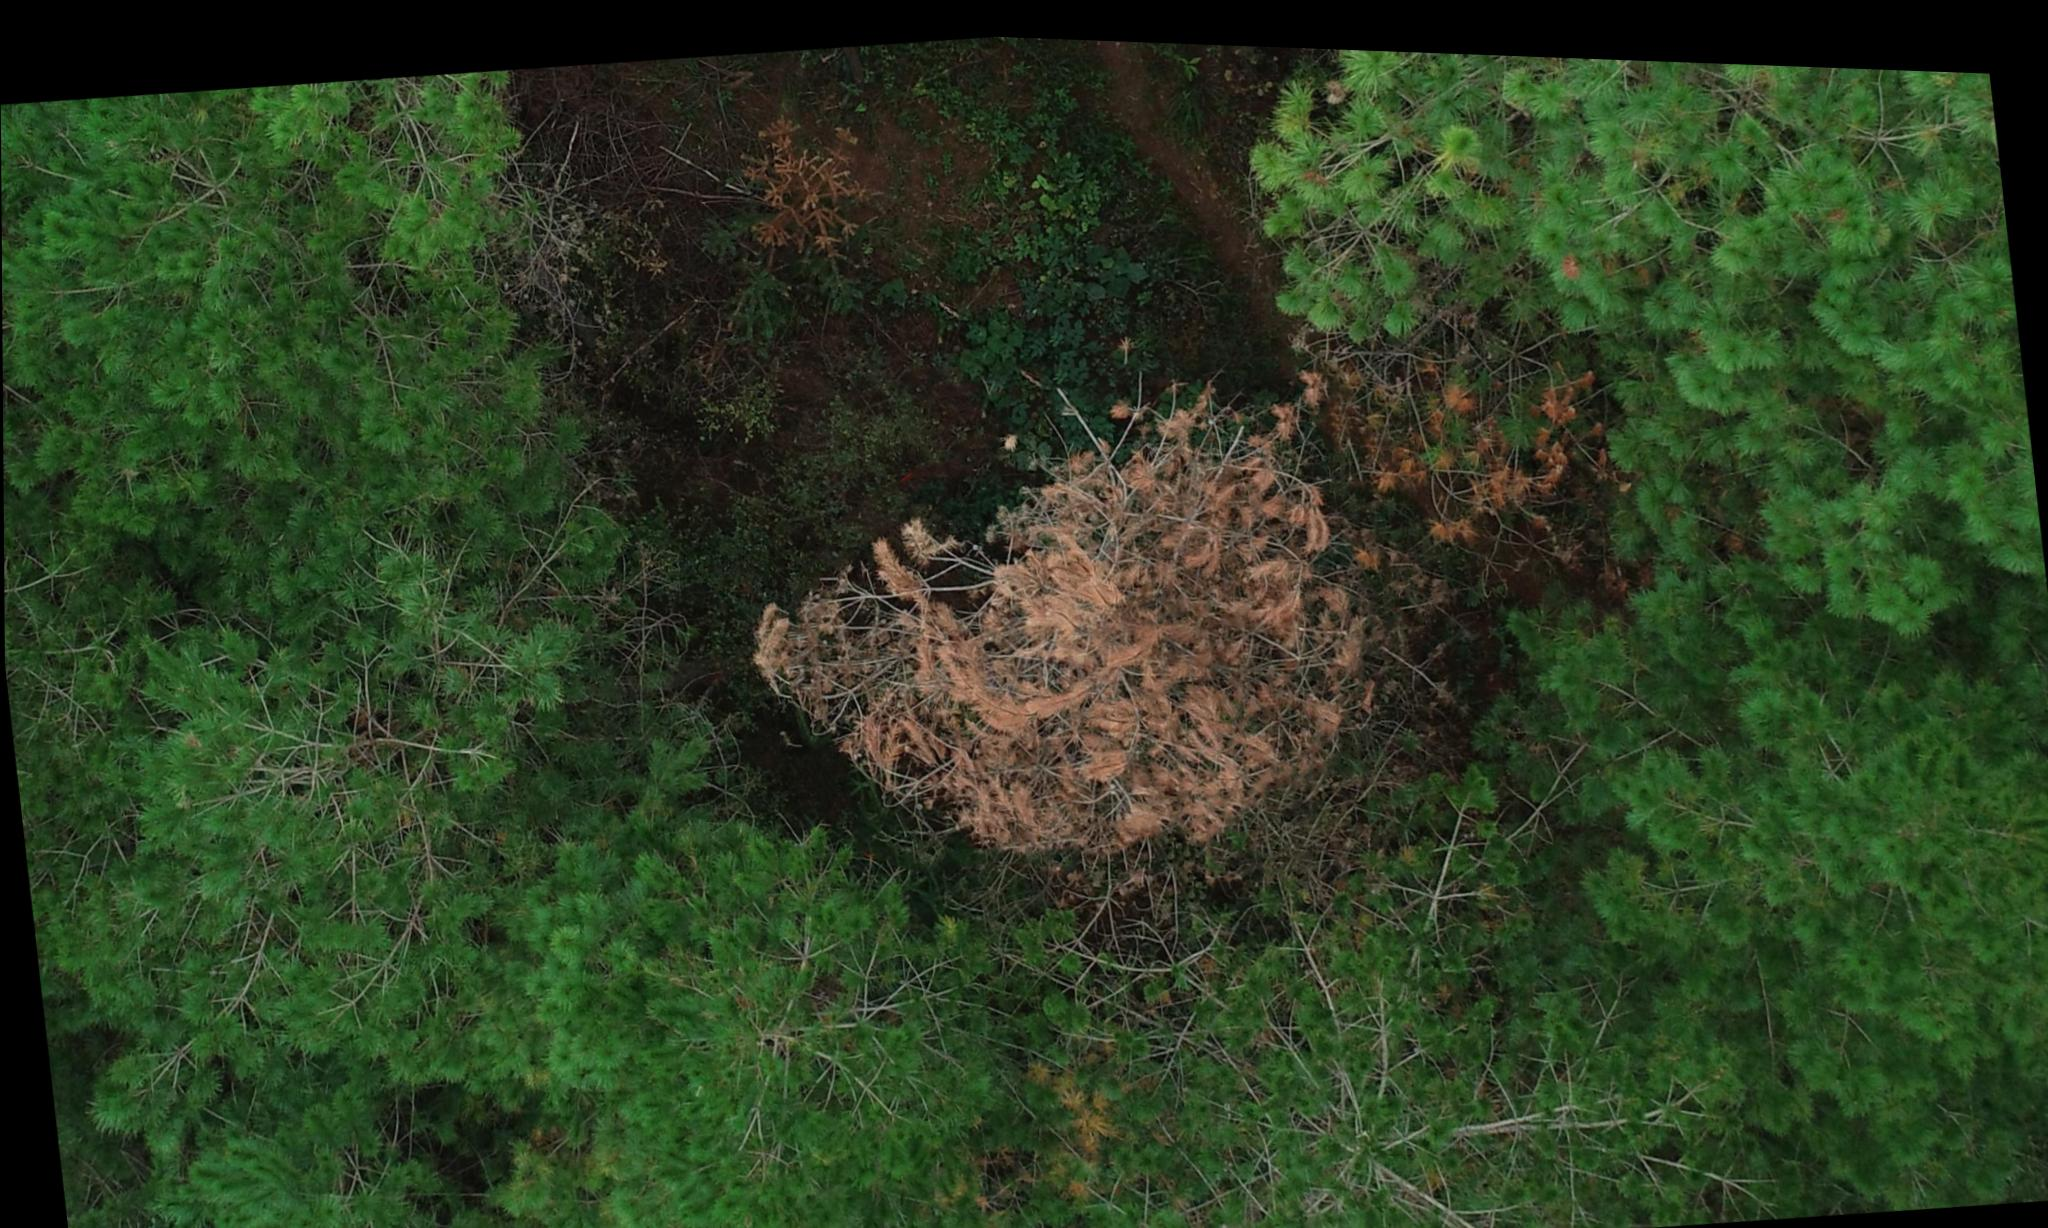heavy: (718, 349, 1419, 895), (728, 101, 881, 268)
